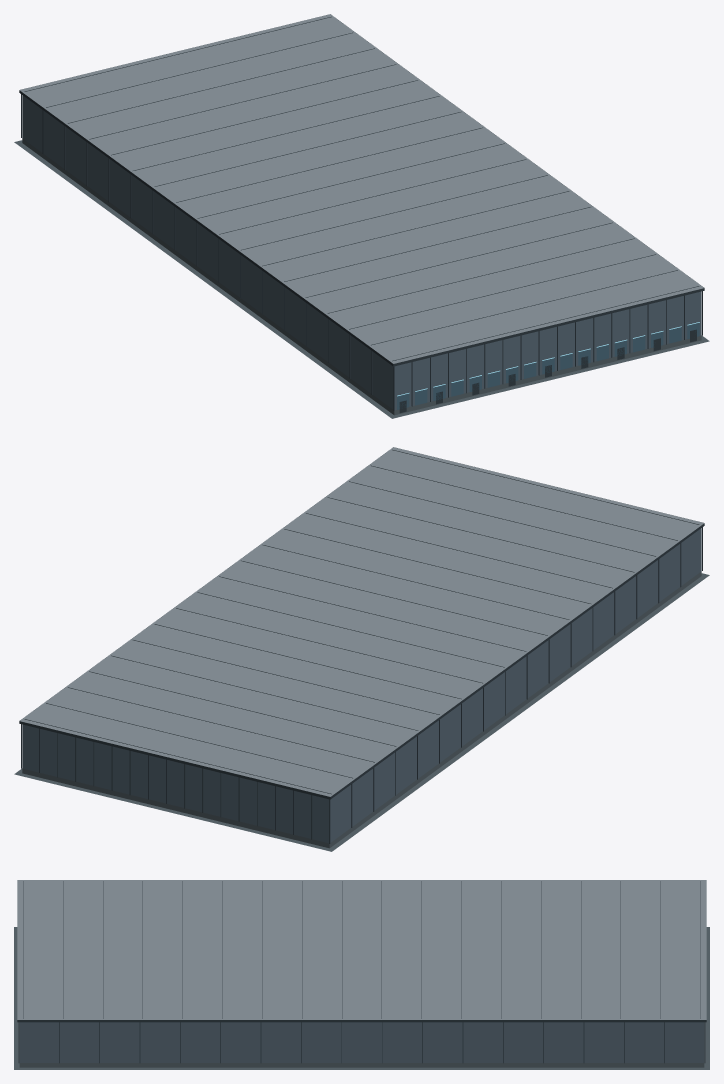
The model's file is shell.glb.
3 renders of one model, top to bottom at view 1: azimuth 30°, elevation 25°; view 2: azimuth 150°, elevation 25°; view 3: azimuth 270°, elevation 25°, orthographic. The views are drawn at different scales.
Parts seen in each view (by area): view 1: shell_roof_canopy, shell_bowl_mass_cladding, shell_roof_canopy_fascia, shell_bowl_mass_plinth, shell_field_floor_apron, shell_bowl_mass_suite_glass_lobby, shell_bowl_mass_facade_panels, shell_bowl_mass_portal_frames; view 2: shell_roof_canopy, shell_bowl_mass_cladding, shell_roof_canopy_fascia, shell_bowl_mass_plinth, shell_field_floor_apron, shell_bowl_mass_facade_panels; view 3: shell_roof_canopy, shell_bowl_mass_cladding, shell_roof_canopy_fascia, shell_bowl_mass_plinth, shell_field_floor_apron, shell_bowl_mass_facade_panels.
Boxes of the visible parts, x1,y1,x2,y2 form: shell_roof_canopy: (19, 14, 703, 363); shell_bowl_mass_cladding: (22, 95, 701, 410); shell_roof_canopy_fascia: (19, 16, 704, 366); shell_bowl_mass_plinth: (22, 138, 701, 415); shell_field_floor_apron: (14, 140, 709, 418); shell_bowl_mass_suite_glass_lobby: (397, 323, 699, 409); shell_bowl_mass_facade_panels: (21, 94, 702, 410); shell_bowl_mass_portal_frames: (399, 329, 696, 412); shell_roof_canopy: (20, 447, 704, 796); shell_bowl_mass_cladding: (22, 528, 701, 843); shell_roof_canopy_fascia: (19, 449, 704, 799); shell_bowl_mass_plinth: (22, 571, 701, 848); shell_field_floor_apron: (14, 573, 709, 851); shell_bowl_mass_facade_panels: (21, 527, 702, 843); shell_roof_canopy: (17, 880, 706, 1019); shell_bowl_mass_cladding: (19, 1022, 704, 1062); shell_roof_canopy_fascia: (17, 881, 706, 1022); shell_bowl_mass_plinth: (19, 1063, 704, 1067); shell_field_floor_apron: (14, 927, 709, 1069); shell_bowl_mass_facade_panels: (18, 1022, 705, 1063).
Bounding box in the file's own units: 80.27 × 12.79 × 165.
